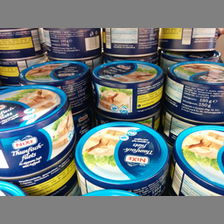fish: (75, 122, 169, 197), (1, 85, 76, 178), (92, 60, 165, 118), (169, 125, 224, 197), (165, 60, 224, 124), (18, 59, 90, 109)
